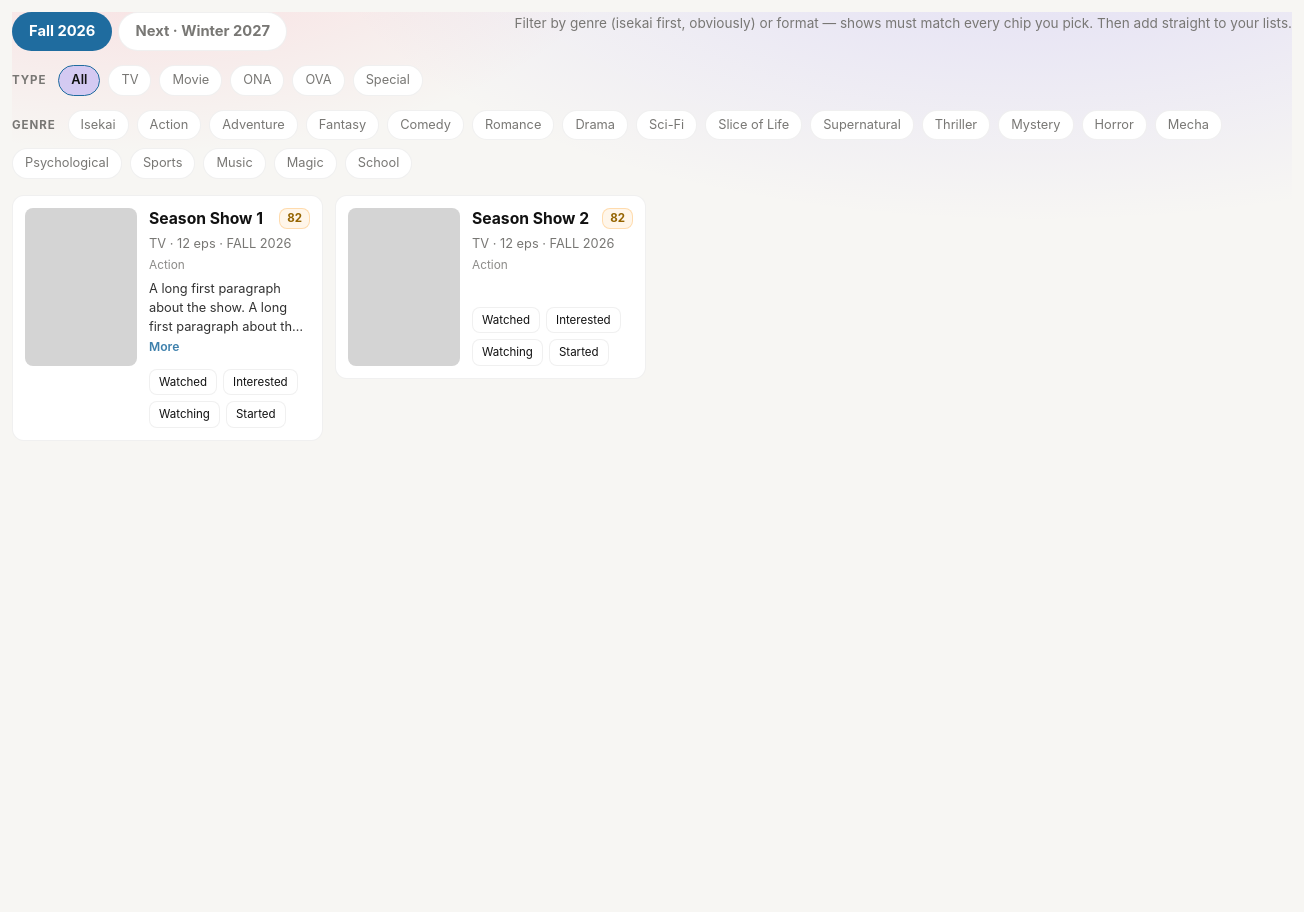
it: SeasonBrowse — season browse page › cards show the synopsis clamped, with More / Less for long ones
This screenshot has width=1304, height=912.
Expected: the heading "Season Show 1" is shown, 149,208 -> 263,231
Click the button with aria-label "Show the full synopsis of Season Show 1": (164, 346) 149,336 -> 179,356
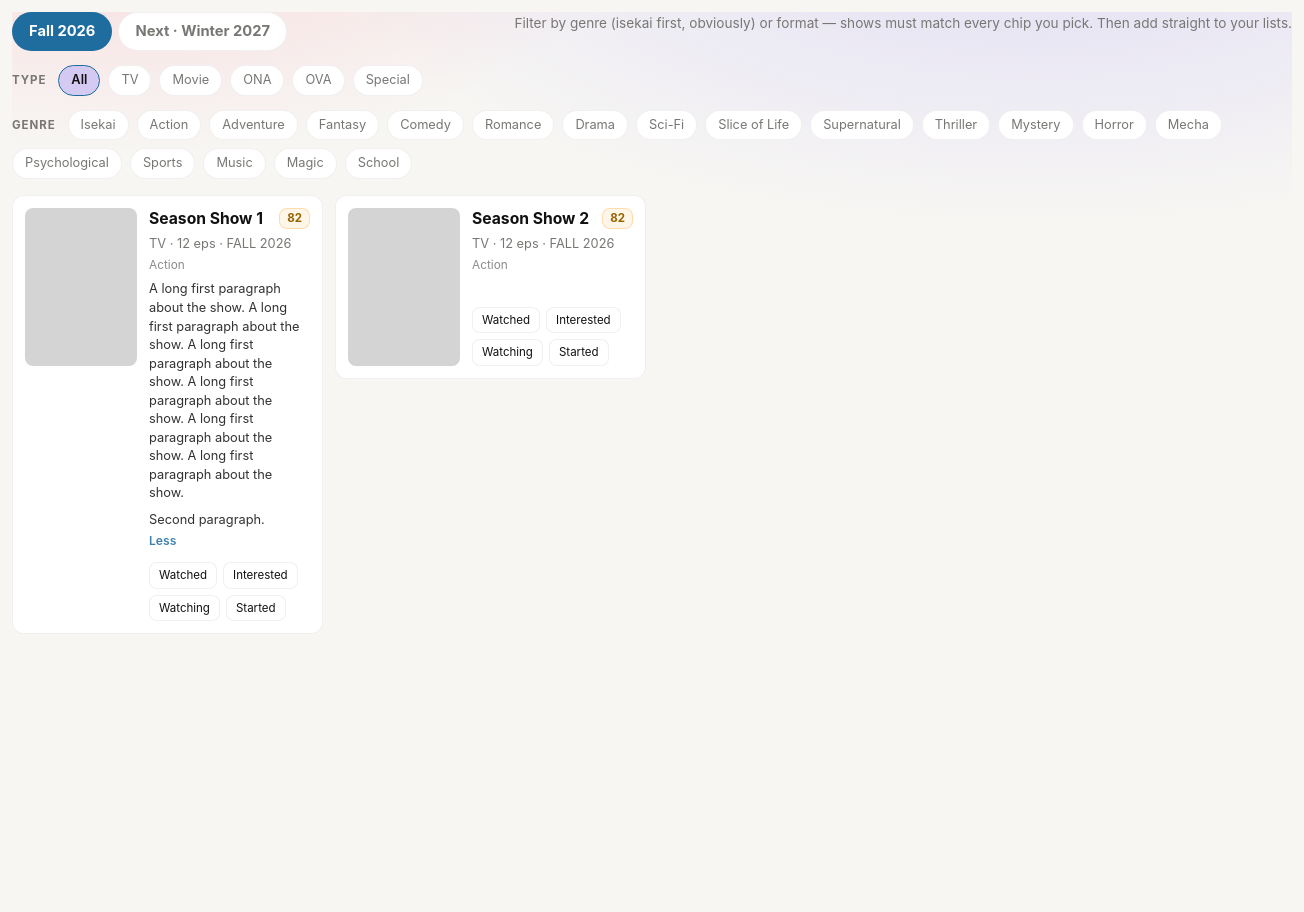
Expected: the text "Second paragraph." is shown, 149,512 -> 265,527
Result: the button with aria-label "Hide the full synopsis of Season Show 1" is expanded at 149,530 -> 176,549
